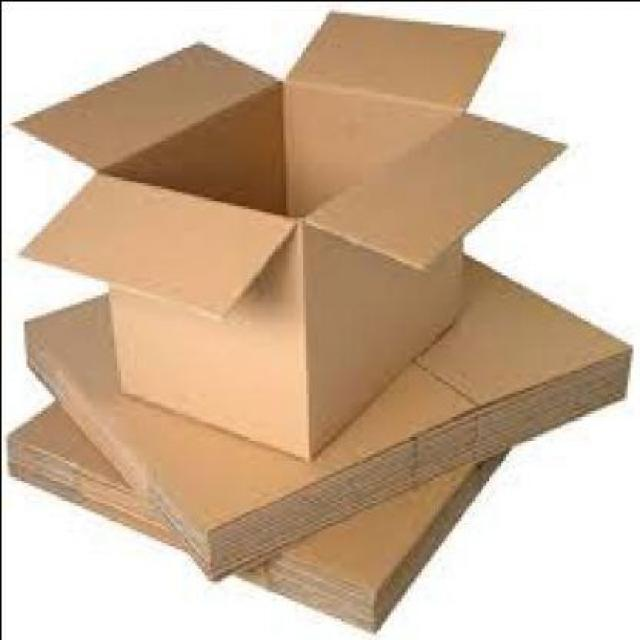box: (0, 9, 525, 637), (9, 3, 582, 466)
